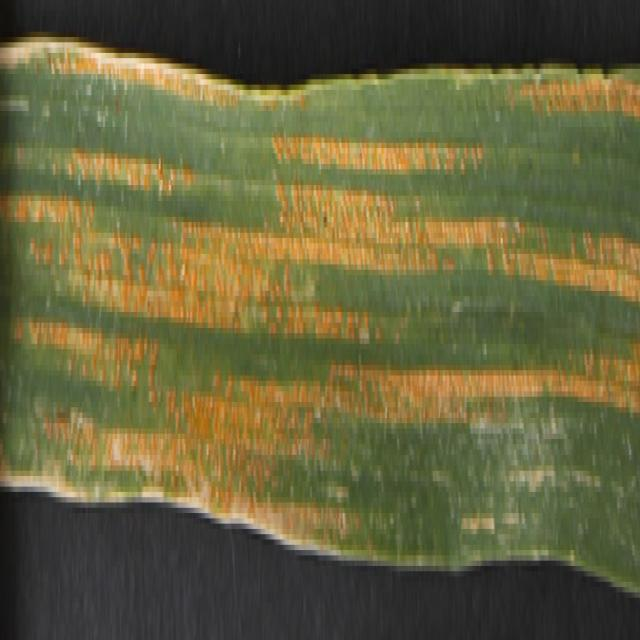leaf rust: (1, 5, 637, 582)
